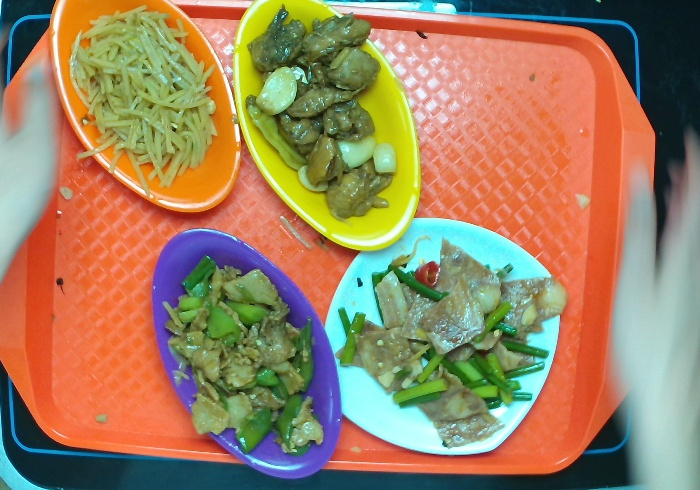RJxy-Fen_Hong_Tuo_Yuan: (143, 223, 348, 481)
RJxy-Huang_Se_Tuo_Yuan: (229, 1, 430, 255)
RJxy-Ju_Huang_Tuo_Yuan: (44, 1, 248, 221)
RJxy-Si_Fang_Die: (318, 213, 564, 459)
